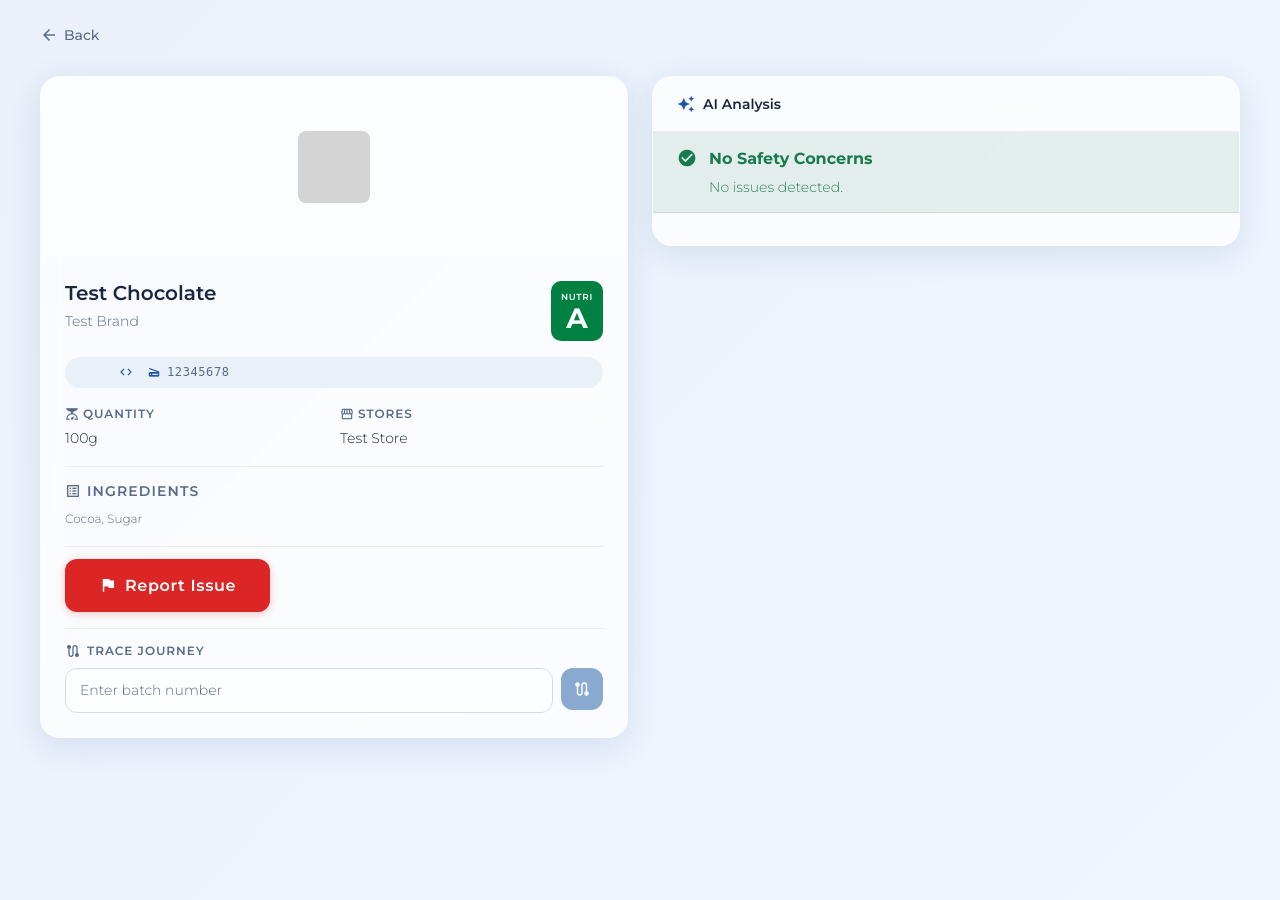
it: ProductView › Trace Journey section › typing in the input enables the journey button
The image size is (1280, 900).
Check: the heading "Test Chocolate" is shown, box x1=65 y1=281 x2=216 y2=305
In the field with placeholder "Enter batch number": point(309, 691) x1=65 y1=668 x2=553 y2=713, type "LOT-001"
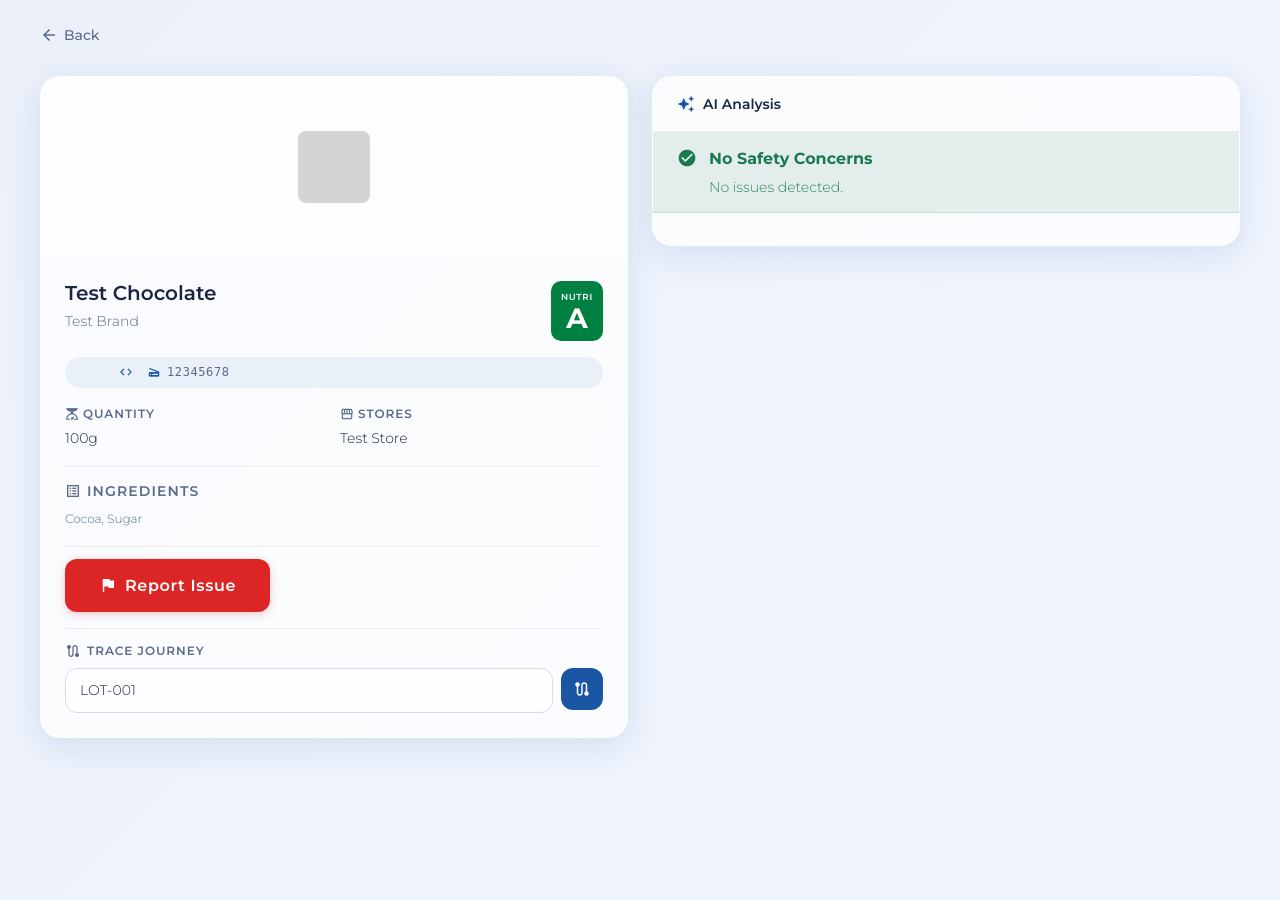
Check: the button named "route" is enabled, box x1=561 y1=668 x2=603 y2=710
